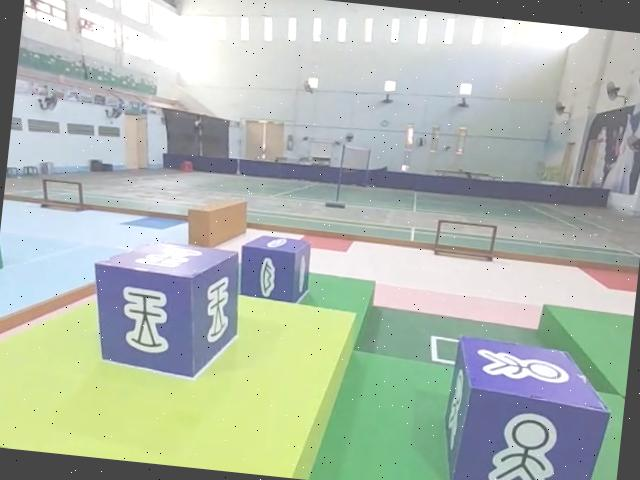R2 Real Blue: (435, 335, 615, 480), (82, 233, 241, 384), (234, 234, 313, 309)
